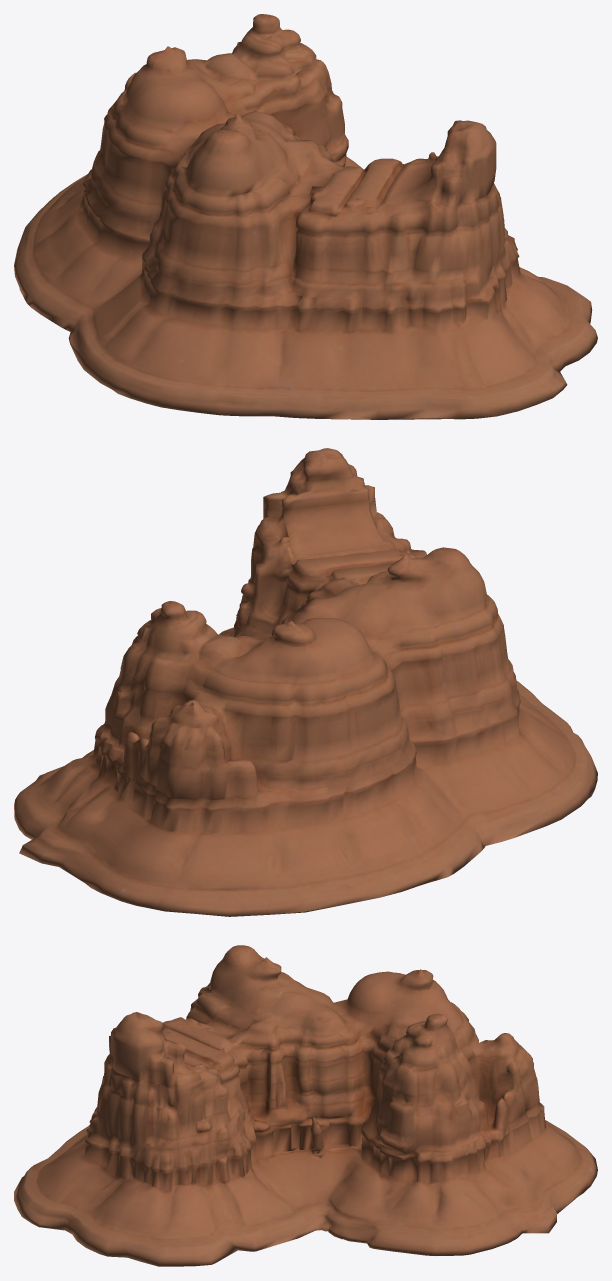
File: Ikmah.fbx
The picture shows the model from 3 angles, top to bottom: view 1: azimuth 30°, elevation 25°; view 2: azimuth 150°, elevation 25°; view 3: azimuth 270°, elevation 25°; orthographic projection. The views are drawn at different scales.
Parts seen in each view (by area): view 1: tripo_node_a06427a8; view 2: tripo_node_a06427a8; view 3: tripo_node_a06427a8.
Part boxes in pixels (x1,y1,x2,y2): tripo_node_a06427a8: [14, 14, 597, 419]; tripo_node_a06427a8: [14, 448, 597, 916]; tripo_node_a06427a8: [14, 945, 597, 1266].
Size of the model in its own units: 0.7487 by 0.3656 by 0.9989.
